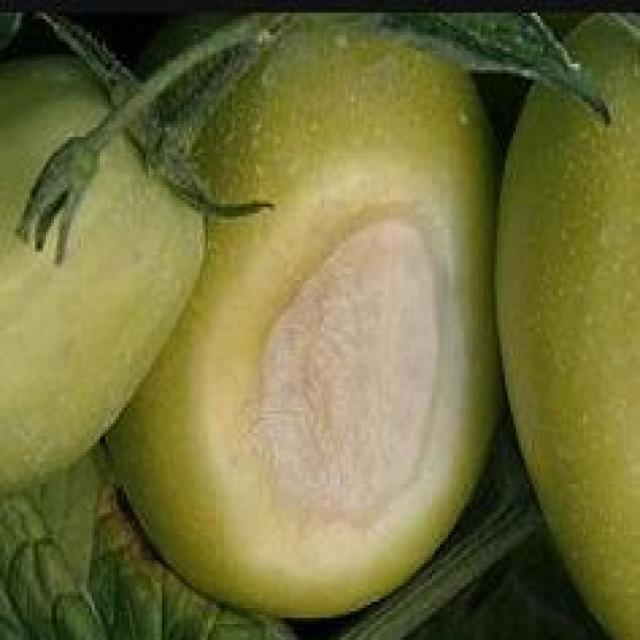Sunscald Fruit: (144, 107, 297, 366)
